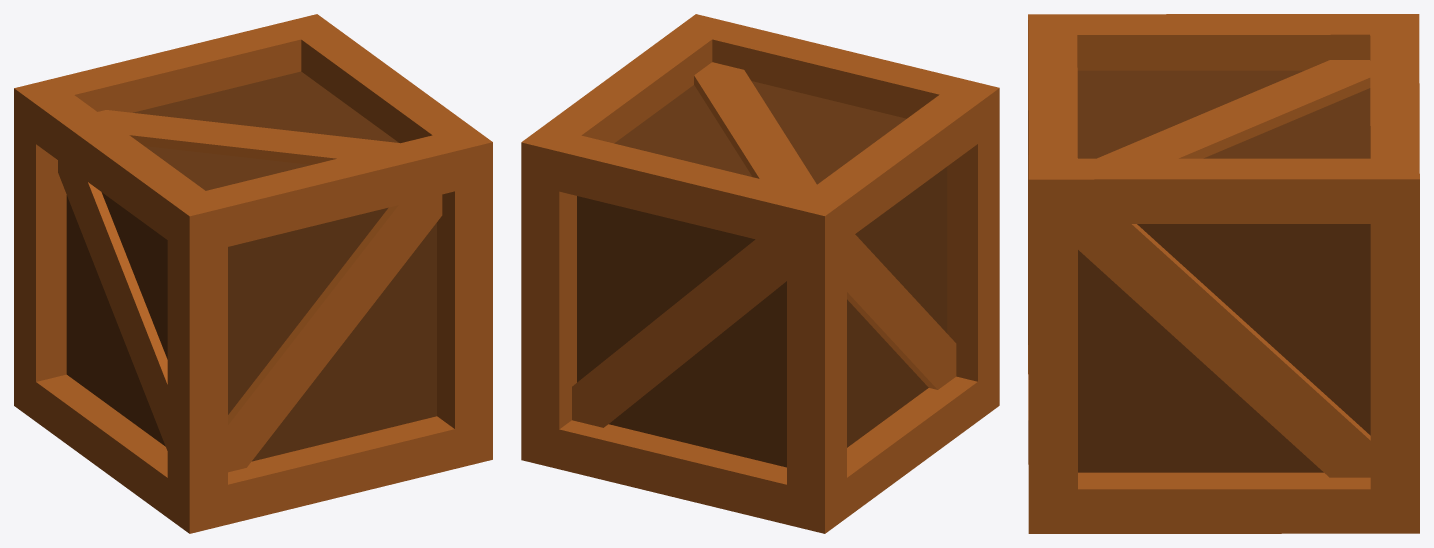
File: crate.glb
3 views of the same model, side by side, from view 1: azimuth 30°, elevation 25°; view 2: azimuth 150°, elevation 25°; view 3: azimuth 270°, elevation 25° (orthographic). The views are drawn at different scales.
Visible parts, largest first — view 1: crate.009, Cube, Cube.002, Cube.001; view 2: crate.009, Cube, Cube.002, Cube.001; view 3: crate.009, Cube.002, Cube.001.
Boxes of the visible parts, x1=… form: crate.009: x1=14, y1=14, x2=492, y2=533; Cube: x1=228, y1=194, x2=442, y2=472; Cube.002: x1=58, y1=160, x2=167, y2=450; Cube.001: x1=98, y1=110, x2=399, y2=164; crate.009: x1=521, y1=14, x2=999, y2=533; Cube: x1=572, y1=239, x2=786, y2=427; Cube.002: x1=847, y1=234, x2=956, y2=389; Cube.001: x1=694, y1=62, x2=816, y2=190; crate.009: x1=1028, y1=14, x2=1419, y2=533; Cube.002: x1=1078, y1=224, x2=1370, y2=477; Cube.001: x1=1097, y1=60, x2=1370, y2=158.
Bounding box in the file's own units: 0.3144 × 0.3139 × 0.3144.
